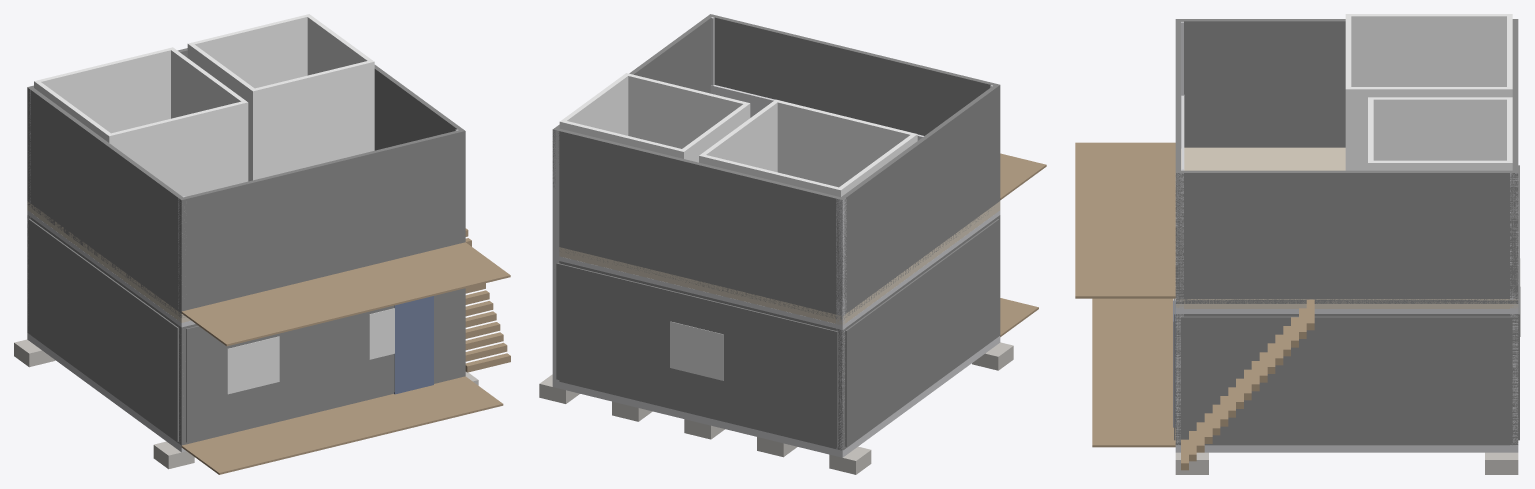
File: Duplex-20-Base-AntiqueWallGrey-LOD2.glb
The picture shows the model from 3 angles, left to right: view 1: azimuth 30°, elevation 25°; view 2: azimuth 150°, elevation 25°; view 3: azimuth 270°, elevation 25°; orthographic projection. The views are drawn at different scales.
Visible parts, largest first — view 1: ExteriorShellUpper, ExteriorPanelsStandard, StudyUpper, BedroomUpper, BalconyUpper, BalconyGround, WindowsStandard, EntryDoor, StaircaseExternal, ExteriorShell, FoundationBlocks, FloorUpper (+2 smaller); view 2: ExteriorShellUpper, ExteriorPanelsStandard, BedroomUpper, StudyUpper, FloorUpper, VerticalStructure, FoundationBlocks, BaseFrame, ExteriorShell, WindowsStandard, TopFrame, BalconyUpper (+2 smaller); view 3: ExteriorShellUpper, ExteriorPanelsStandard, BalconyUpper, BedroomUpper, BalconyGround, StudyUpper, FloorUpper, StaircaseExternal, ExteriorShell, VerticalStructure, BaseFrame, TopFrame (+1 smaller).
Boxes of the visible parts, x1,y1,x2,y2 form: ExteriorShellUpper: (27,48,465,317); ExteriorPanelsStandard: (28,218,461,442); StudyUpper: (187,14,374,181); BedroomUpper: (34,47,248,196); BalconyUpper: (181,242,510,346); BalconyGround: (181,376,503,474); WindowsStandard: (227,308,394,394); EntryDoor: (394,296,433,394); StaircaseExternal: (465,228,510,372); ExteriorShell: (27,215,465,445); FoundationBlocks: (14,339,478,469); FloorUpper: (27,201,190,322); ExteriorShellUpper: (552,14,1000,319); ExteriorPanelsStandard: (556,219,999,447); BedroomUpper: (699,99,917,197); StudyUpper: (559,73,750,162); FloorUpper: (559,201,1000,325); VerticalStructure: (552,17,998,450); FoundationBlocks: (539,342,1013,474); BaseFrame: (552,336,1000,457); ExteriorShell: (559,215,1000,450); WindowsStandard: (670,321,723,380); TopFrame: (559,210,1000,329); BalconyUpper: (1000,153,1046,199); ExteriorShellUpper: (1175,19,1518,303); ExteriorPanelsStandard: (1174,165,1519,443); BalconyUpper: (1075,142,1175,298); BedroomUpper: (1345,14,1512,170); BalconyGround: (1092,298,1175,447); StudyUpper: (1368,97,1512,170); FloorUpper: (1175,147,1518,308); StaircaseExternal: (1181,299,1314,470); ExteriorShell: (1175,314,1518,445); VerticalStructure: (1175,21,1518,445); BaseFrame: (1175,445,1518,452); TopFrame: (1175,309,1518,313).
Bounding box in the file's own units: 7.94 × 6 × 8.
